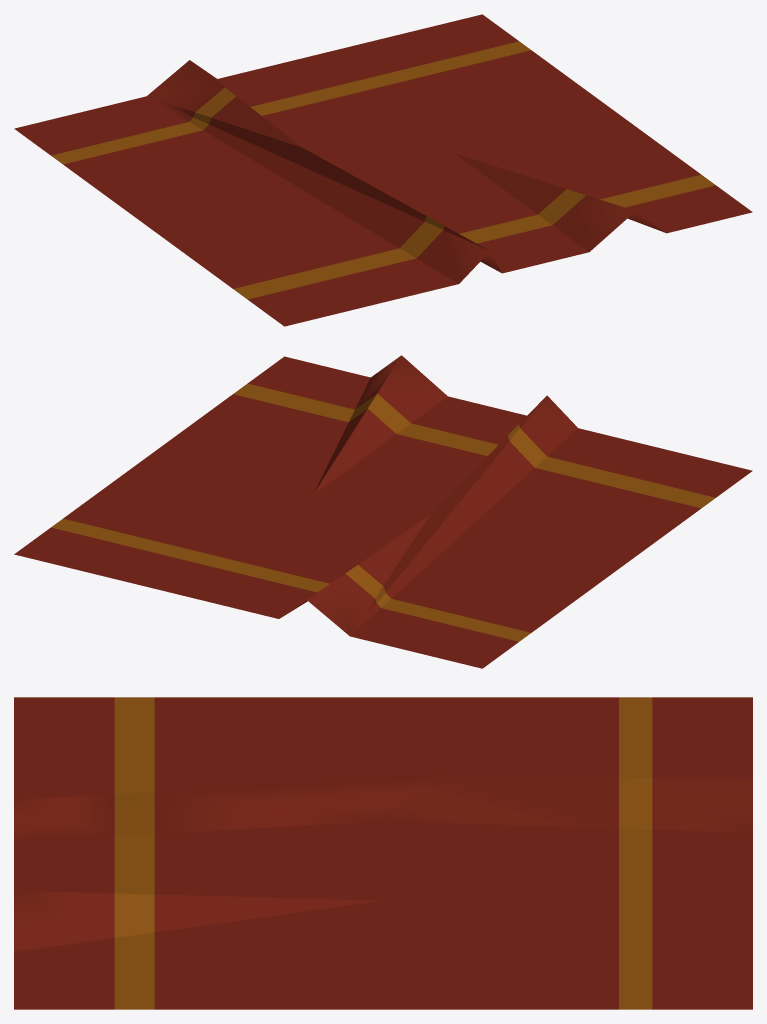
The model's file is Carpet_03.fbx.
The picture shows the model from 3 angles, top to bottom: view 1: azimuth 30°, elevation 25°; view 2: azimuth 150°, elevation 25°; view 3: azimuth 270°, elevation 25°; orthographic projection. The views are drawn at different scales.
Parts seen in each view (by area): view 1: carpet_04; view 2: carpet_04; view 3: carpet_04.
Boxes of the visible parts, <box> form: carpet_04: <box>14,14,752,326</box>; carpet_04: <box>14,355,752,668</box>; carpet_04: <box>14,697,752,1009</box>.
Bounding box in the file's own units: 3.84 × 0.2339 × 3.84.
